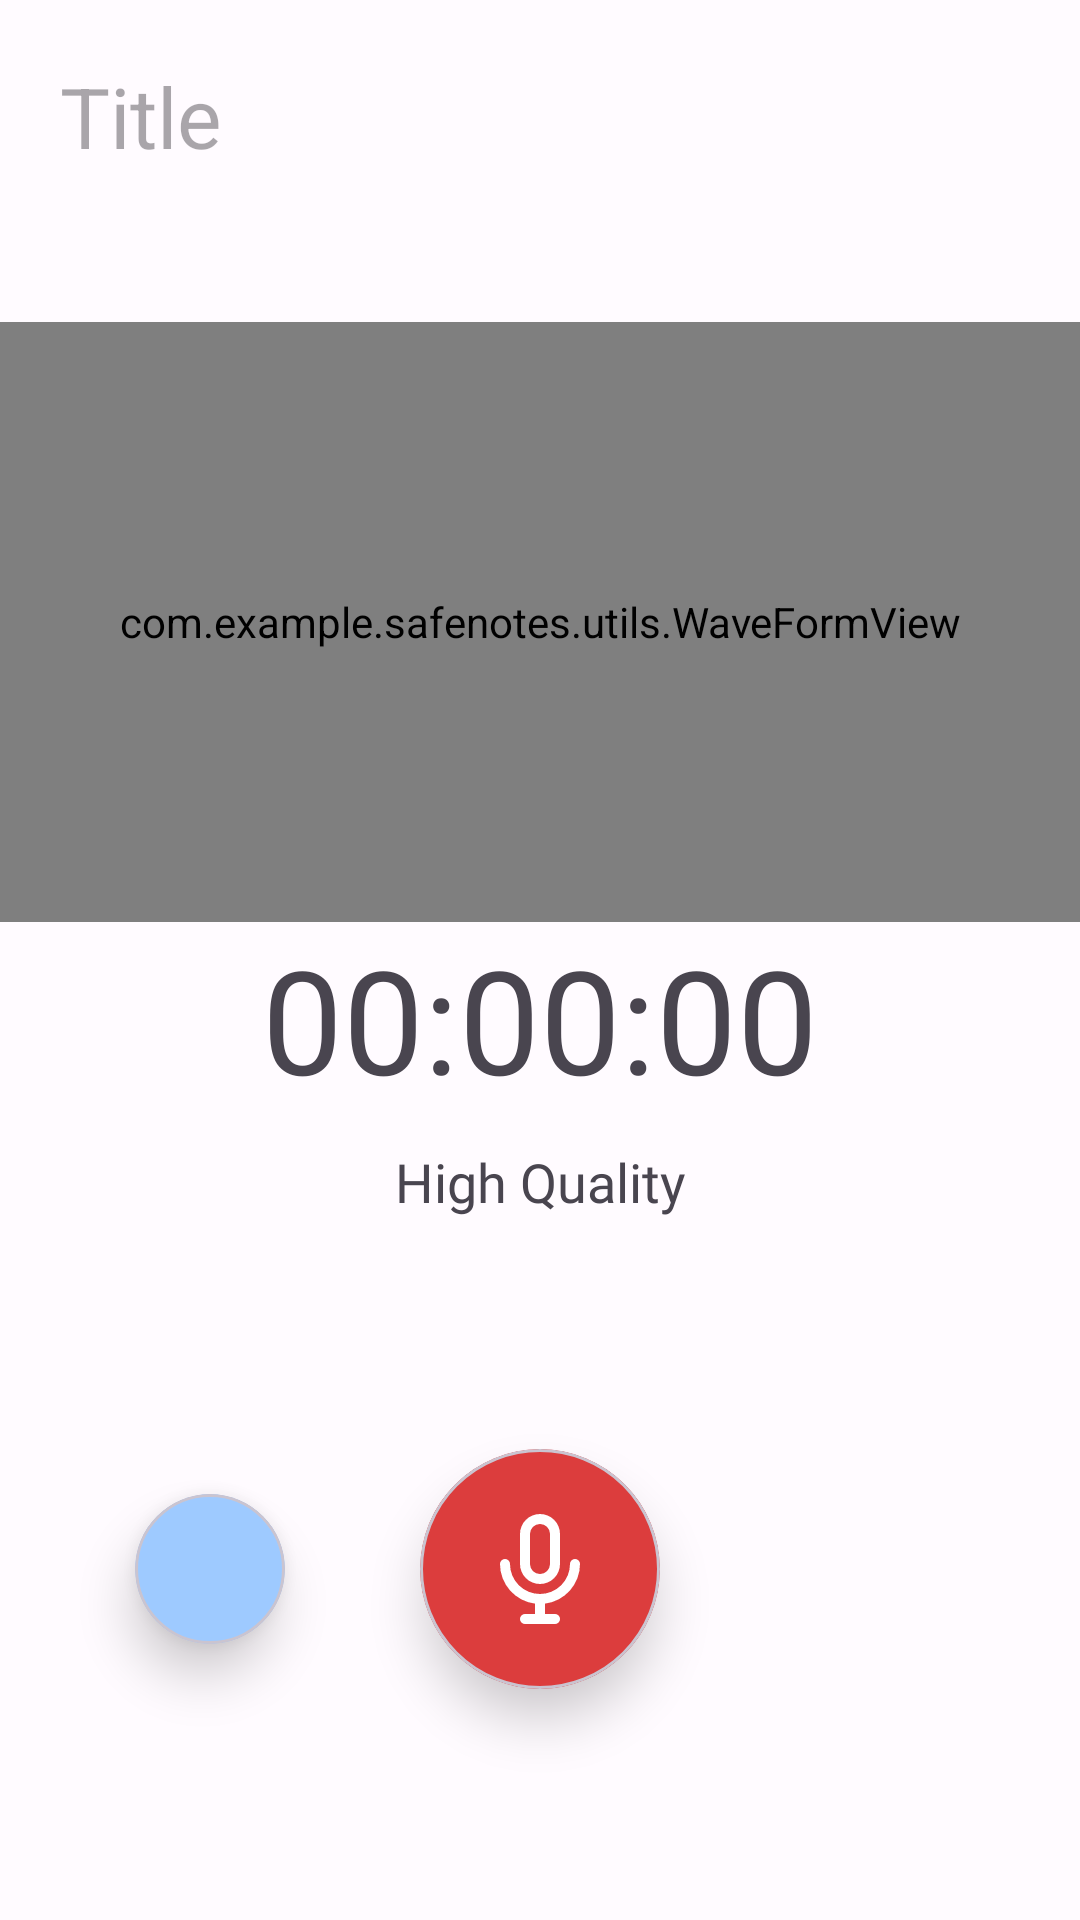

Screen size 1080w x 1920h. Icon name, then its box in pixels as (x1,y1,x2,y2):
mic: (420,1449,660,1689)
